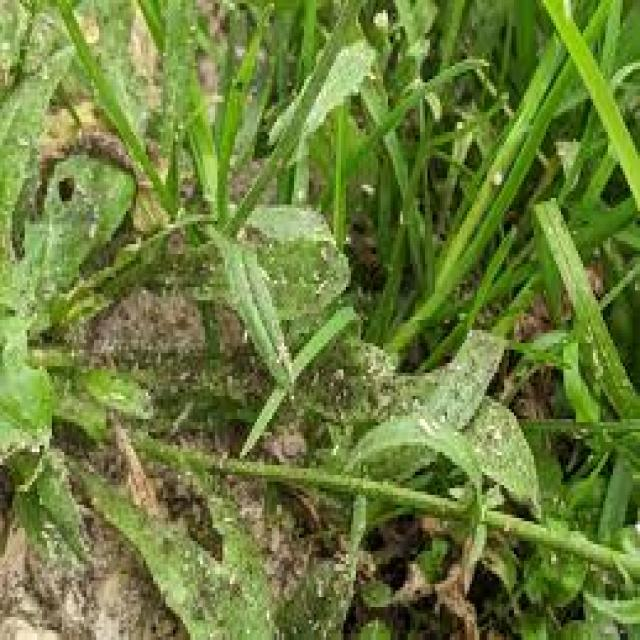aphid: (482, 158, 506, 195), (354, 172, 381, 204), (79, 211, 101, 244), (302, 360, 322, 392), (195, 554, 215, 584), (539, 544, 561, 571), (79, 485, 101, 511), (168, 109, 190, 135), (178, 26, 198, 53), (234, 316, 250, 349), (123, 350, 141, 379), (182, 10, 202, 36), (544, 482, 564, 508), (173, 541, 195, 564), (222, 564, 240, 591), (148, 340, 166, 366), (291, 264, 309, 290), (494, 515, 512, 541), (561, 426, 583, 446), (148, 436, 168, 458), (539, 215, 556, 238), (180, 458, 196, 482), (165, 122, 178, 149), (272, 148, 286, 172), (571, 419, 588, 435)
